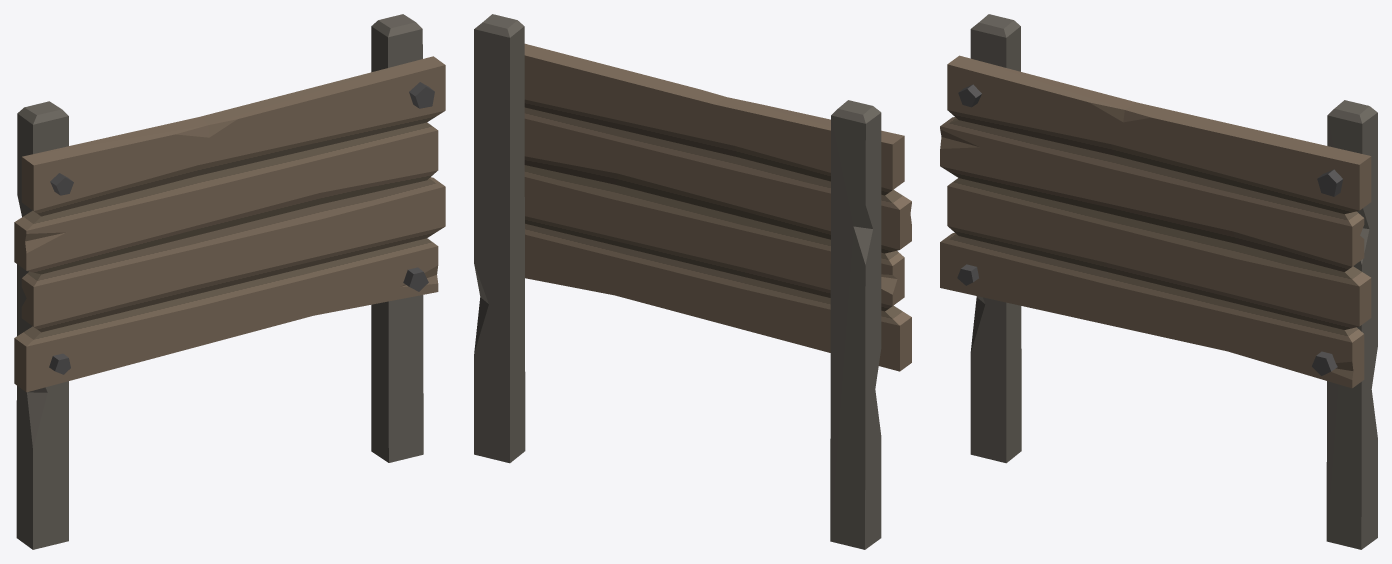
The model's file is SM_Bld_Village_Fence_03.fbx.
The picture shows the model from 3 angles, left to right: view 1: azimuth 30°, elevation 25°; view 2: azimuth 150°, elevation 25°; view 3: azimuth 330°, elevation 25°; orthographic projection.
Visible parts, largest first — view 1: SM_Bld_Village_Fence_03; view 2: SM_Bld_Village_Fence_03; view 3: SM_Bld_Village_Fence_03.
Part boxes in pixels (left/top/right/bottom): SM_Bld_Village_Fence_03: left=14, top=14, right=445, bottom=549; SM_Bld_Village_Fence_03: left=474, top=14, right=911, bottom=549; SM_Bld_Village_Fence_03: left=940, top=14, right=1377, bottom=549.
Bounding box in the file's own units: 175 × 172 × 24.83.
